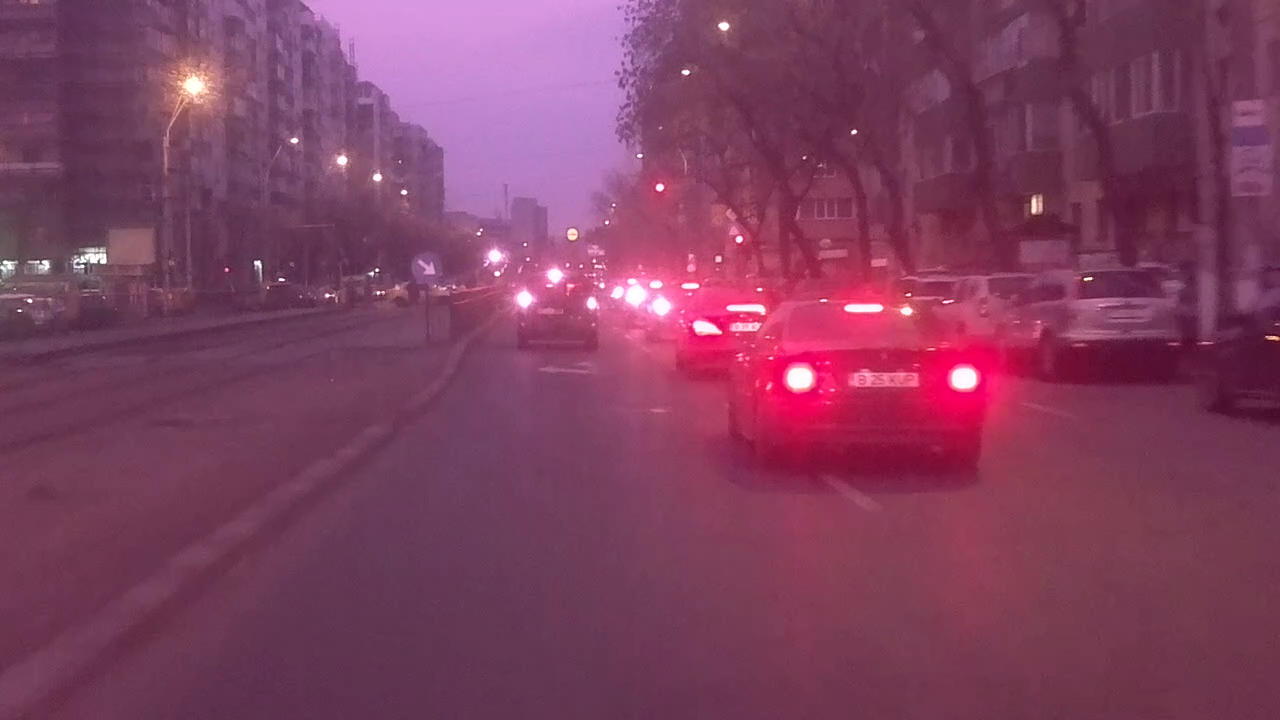license-plate: (844, 368, 922, 390)
